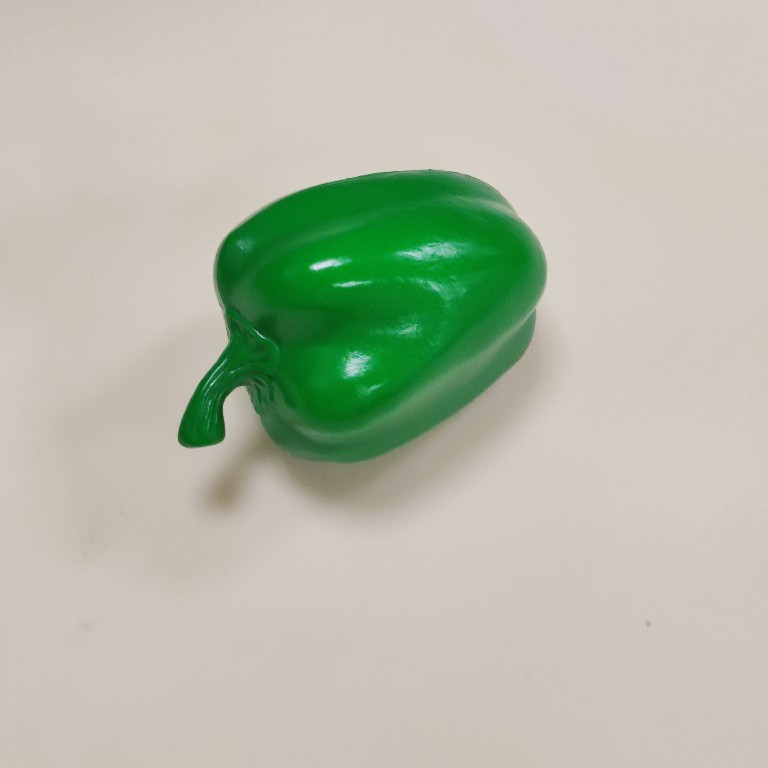fruit_pepper: (168, 164, 548, 474)
